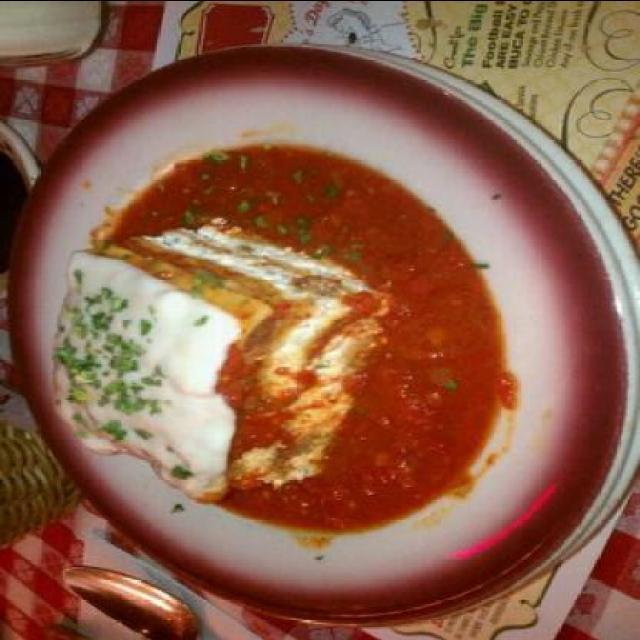Lasagna: (31, 207, 424, 516)
